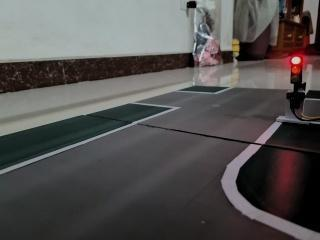red: (283, 50, 312, 97)
